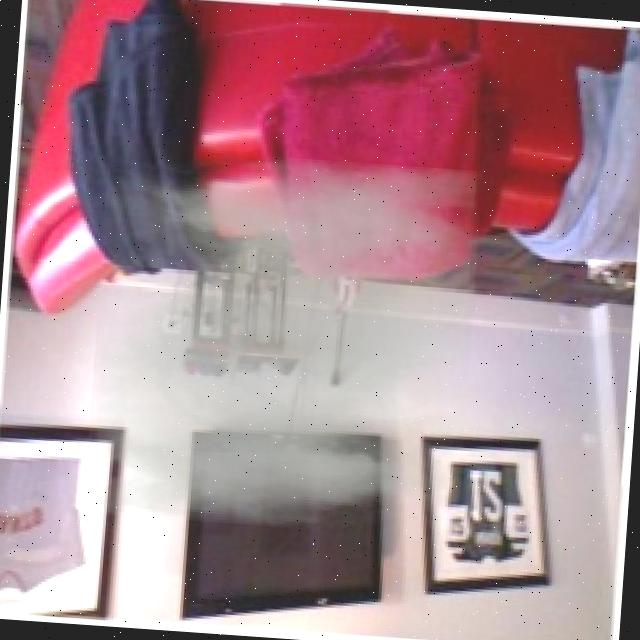smoke: (83, 145, 483, 539)
